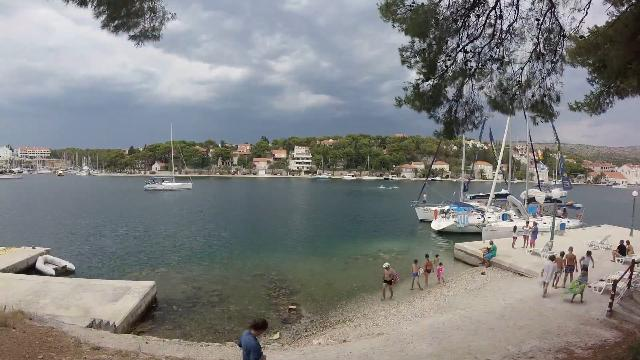Freighter: (0, 165, 28, 181)
Sailboat: (142, 174, 198, 194)
